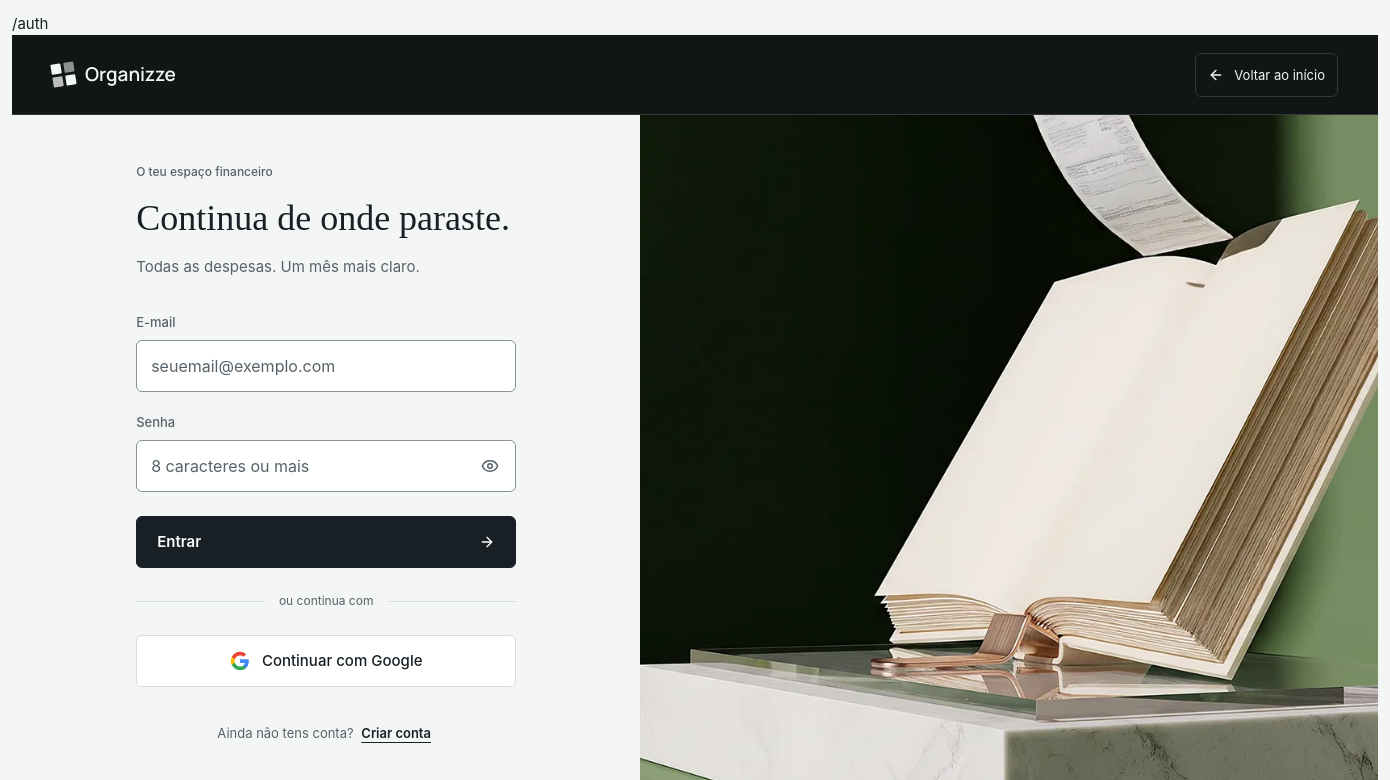
Auth paper form controls › toggles password visibility accessibly in login without submitting or changing its value
Type "person@example.com" into the field labelled "E-mail" at (326, 366), box [136, 340, 516, 392]
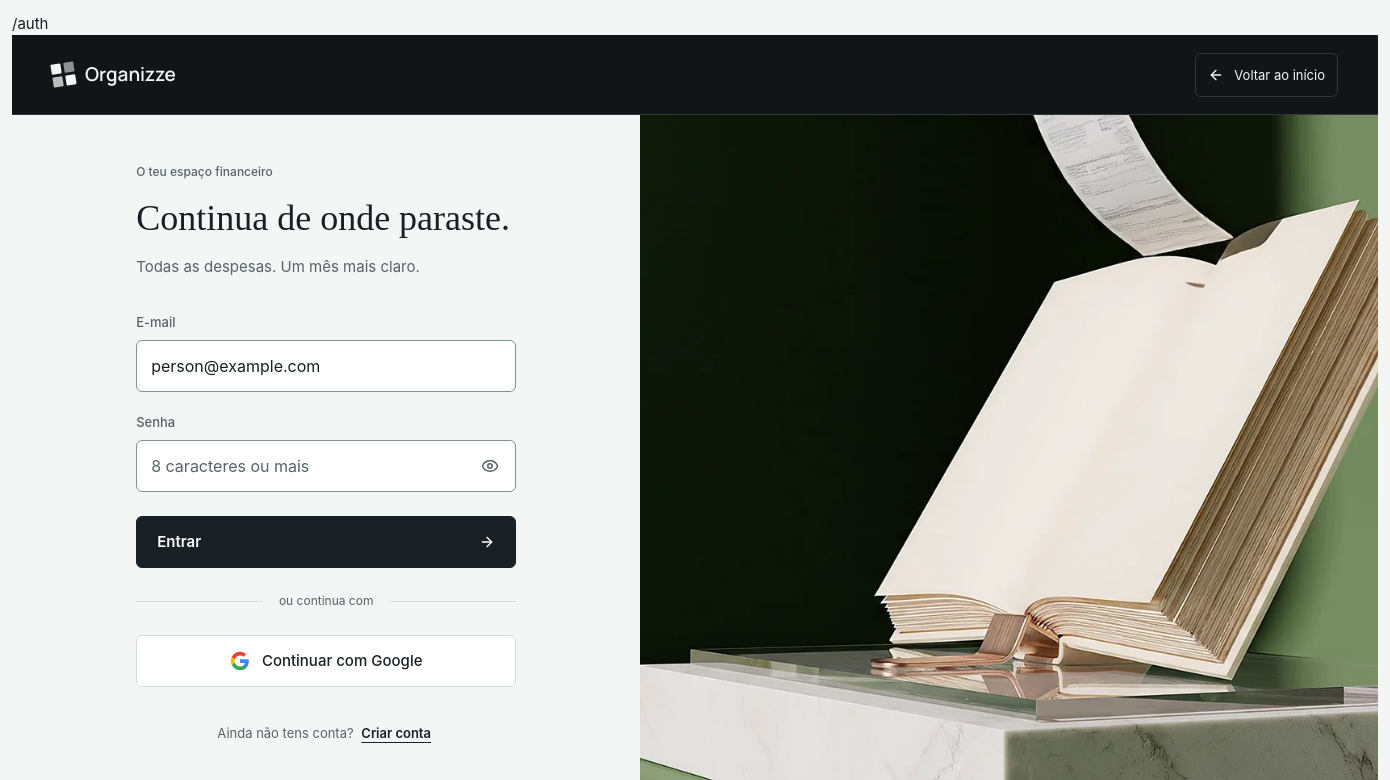
Type " secure-password " into the password field labelled "Senha" at (326, 466), box [136, 440, 516, 492]
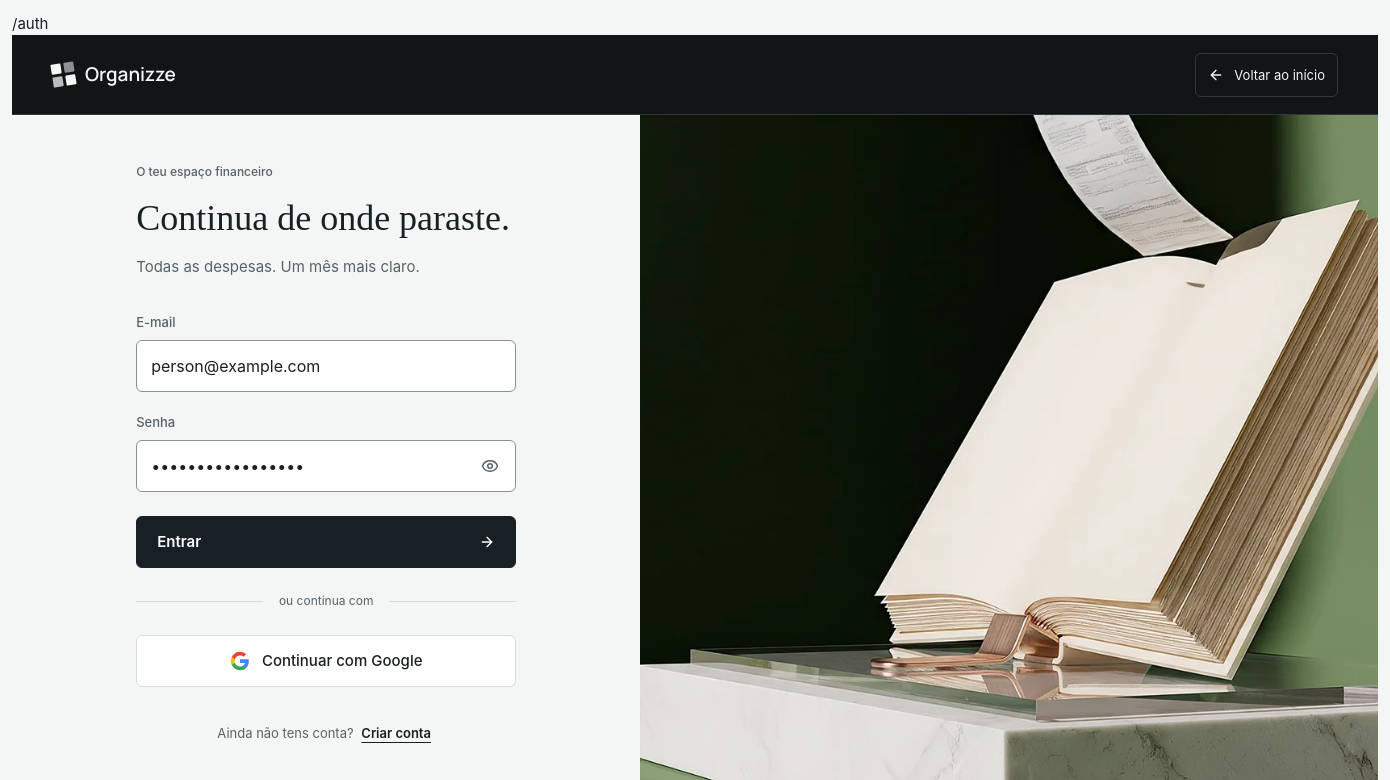
Click the button named "Mostrar senha" at (490, 466), box [468, 444, 512, 488]
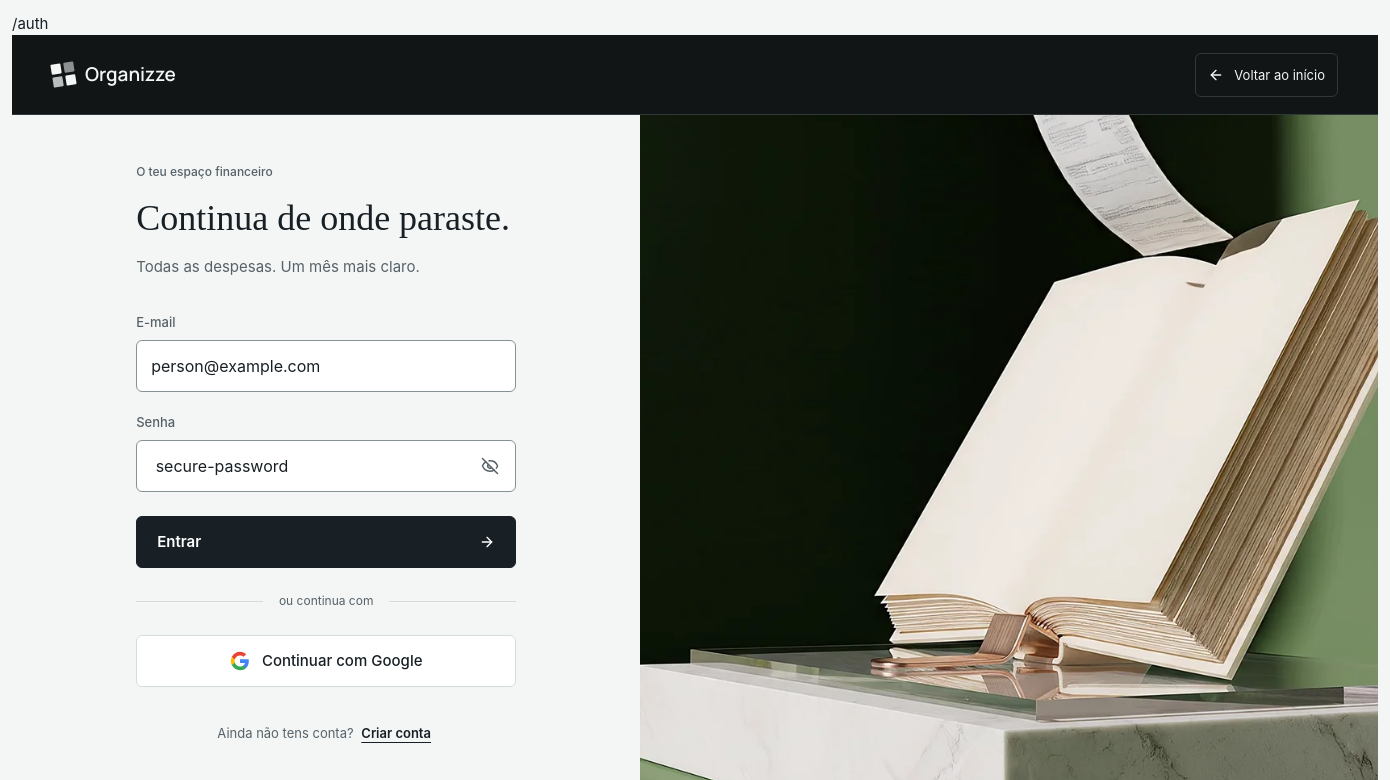
Result: the field labelled "Senha" shows its text at [136, 440, 516, 492]
Click the button named "Ocultar senha" at (490, 466), box [468, 444, 512, 488]
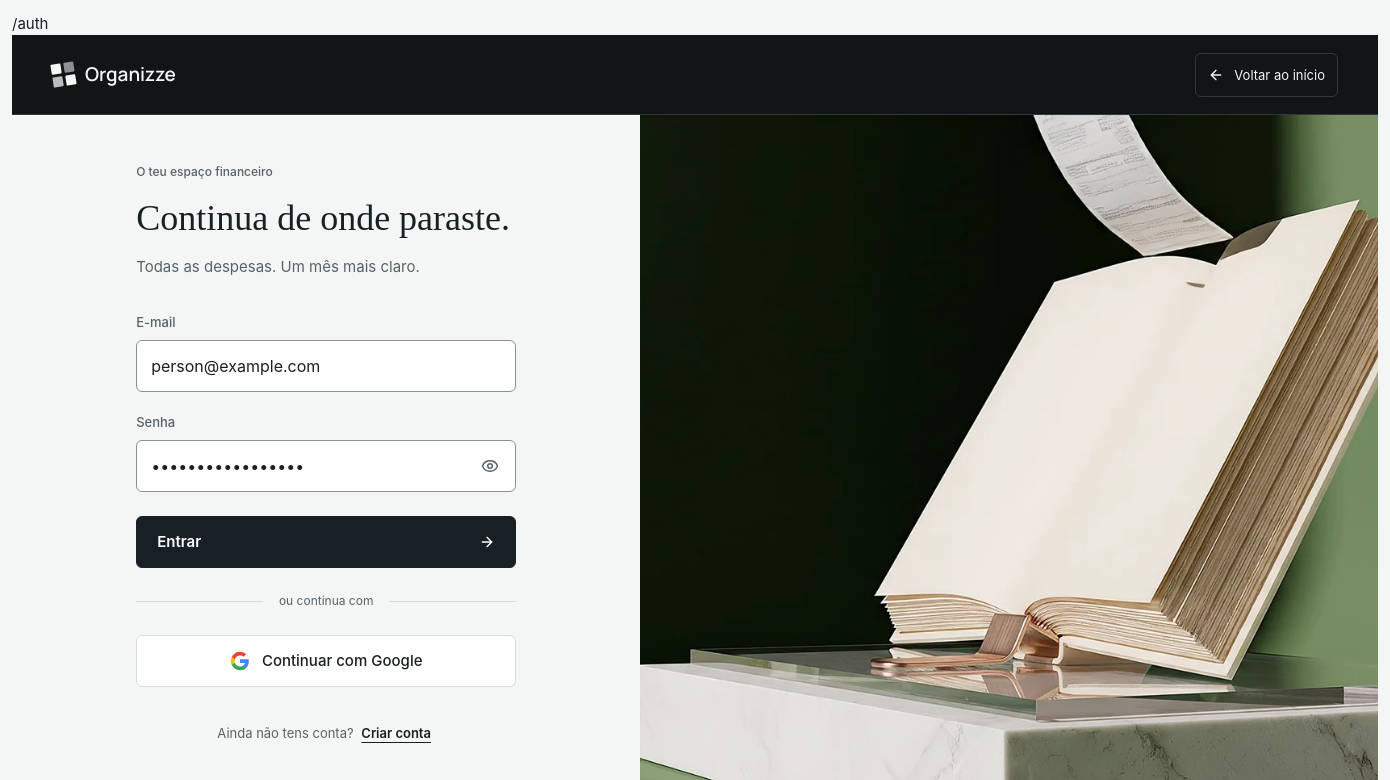
Result: the password field labelled "Senha" hides its text at [136, 440, 516, 492]
